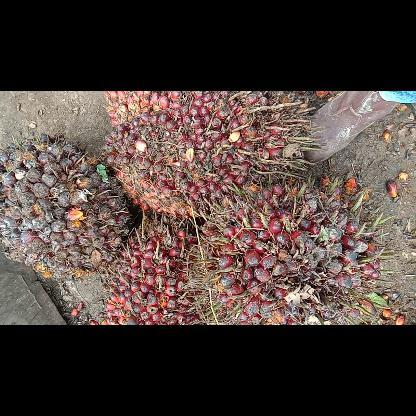Kurang masak: (0, 128, 137, 284)
TBS masak: (192, 176, 390, 324), (98, 91, 314, 221), (100, 212, 222, 324)
